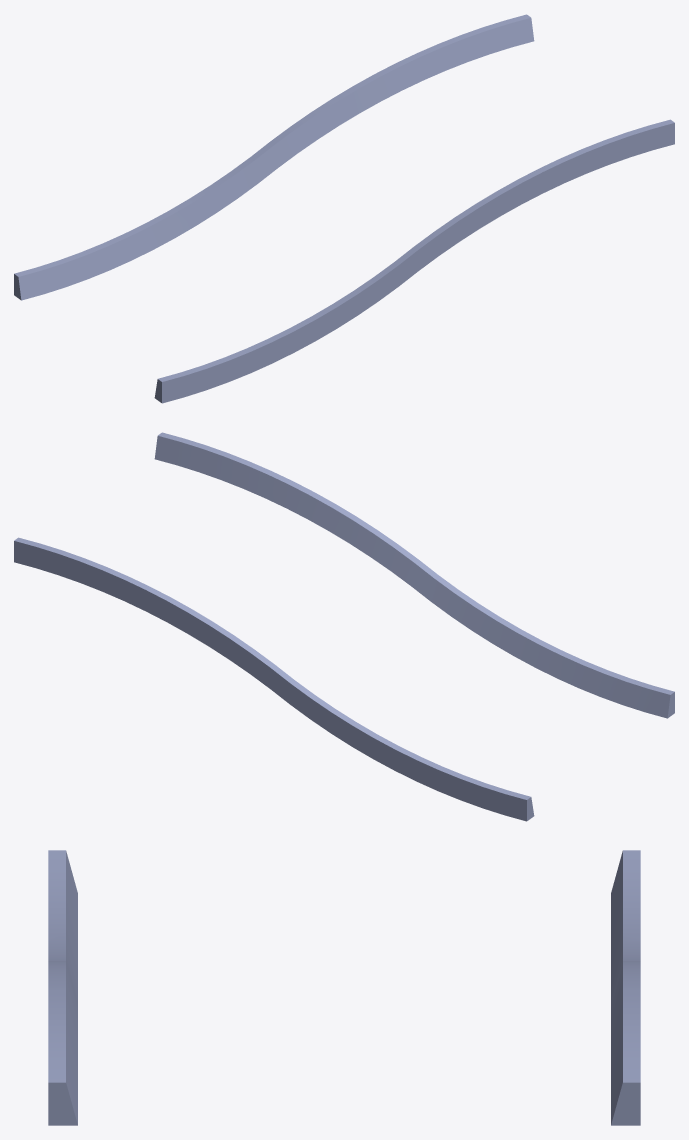
Rendered from road-slant-curve-barrier.glb.
3 views of the same model, one above another, from view 1: azimuth 30°, elevation 25°; view 2: azimuth 150°, elevation 25°; view 3: azimuth 270°, elevation 25° (orthographic). The views are drawn at different scales.
Visible parts, largest first — view 1: road-slant-curve-barrier; view 2: road-slant-curve-barrier; view 3: road-slant-curve-barrier.
Boxes of the visible parts, x1,y1,x2,y2 form: road-slant-curve-barrier: (14, 14, 674, 403); road-slant-curve-barrier: (14, 432, 674, 821); road-slant-curve-barrier: (48, 850, 640, 1125).
Bounding box in the file's own units: 20 × 5.8 × 10.
1 material, 1 textured.
